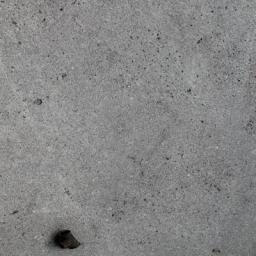FOD: (51, 225, 85, 253)
